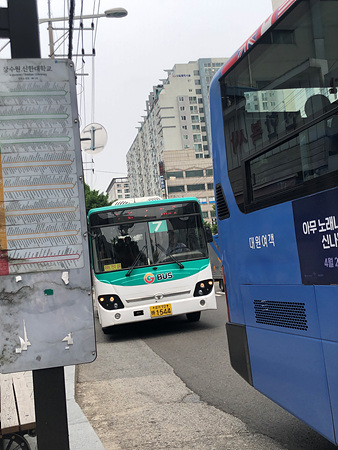bnum: (149, 219, 166, 232)
